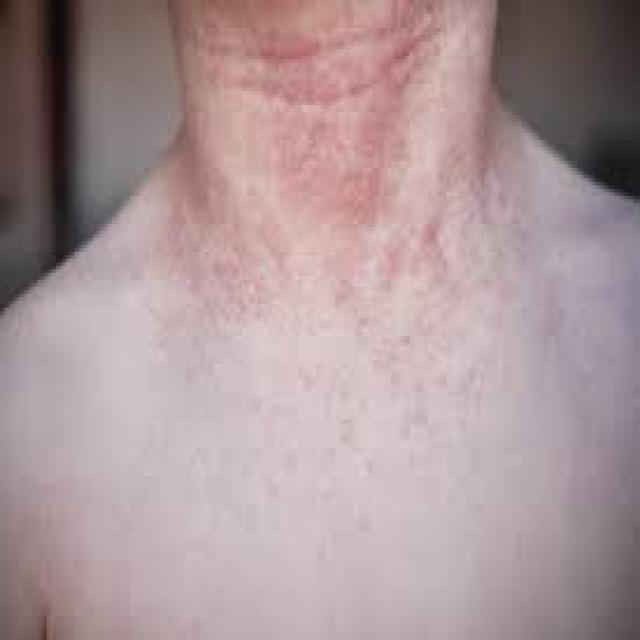Eczema: (176, 0, 484, 403)
